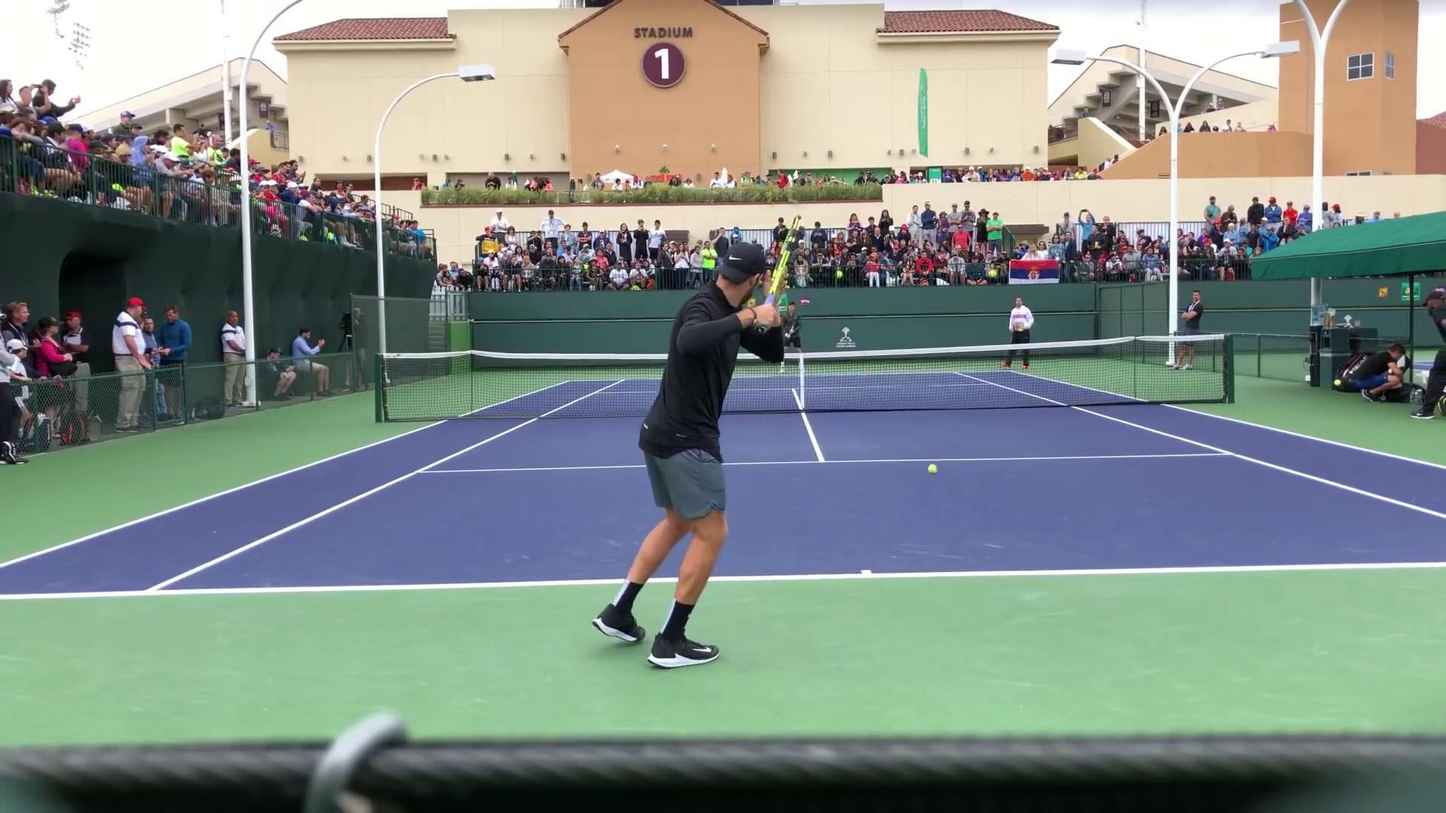ball: (926, 459, 941, 473)
